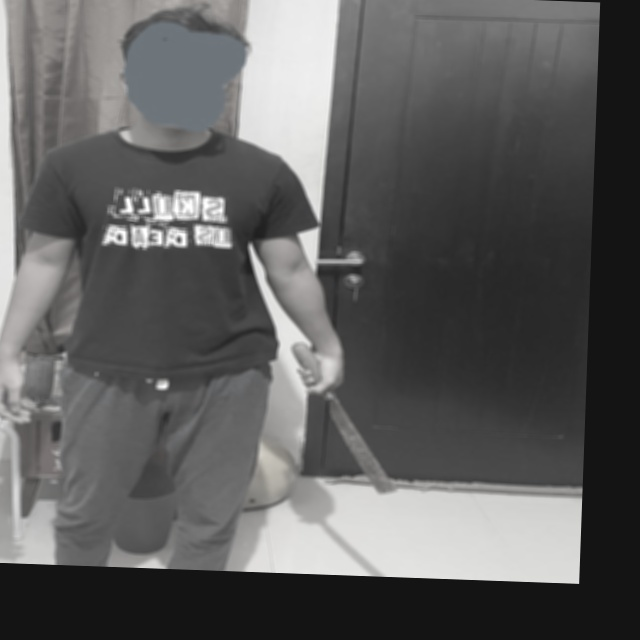Sharp-Object: (284, 339, 404, 497)
